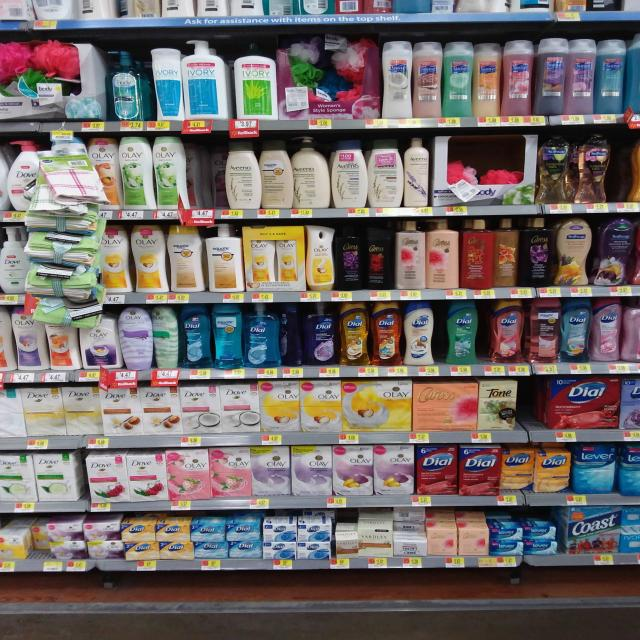empty: (519, 378, 547, 428), (610, 136, 628, 203)
